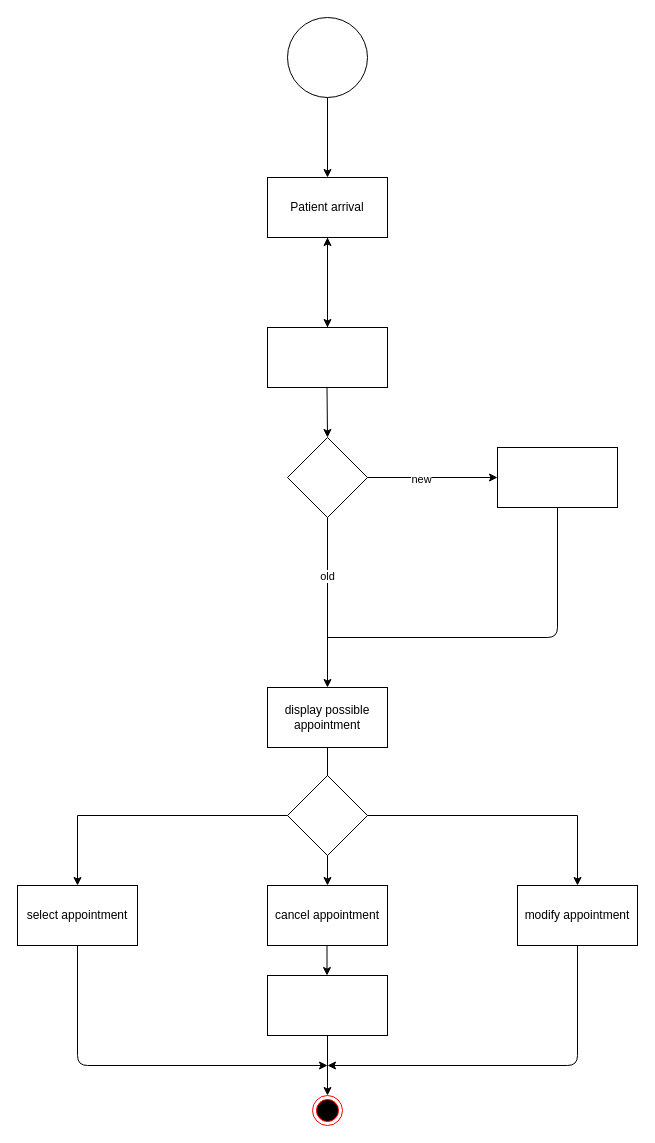
Image size: 655x1143. Some labels were removed from this diagram. The shapes that lost their labels are listed below. From the top down, each one's centre as x and y in pixels, then its label:
At pixel 327 357: "Get info".
At pixel 557 477: "add new record".
At pixel 327 1005: "pay".
